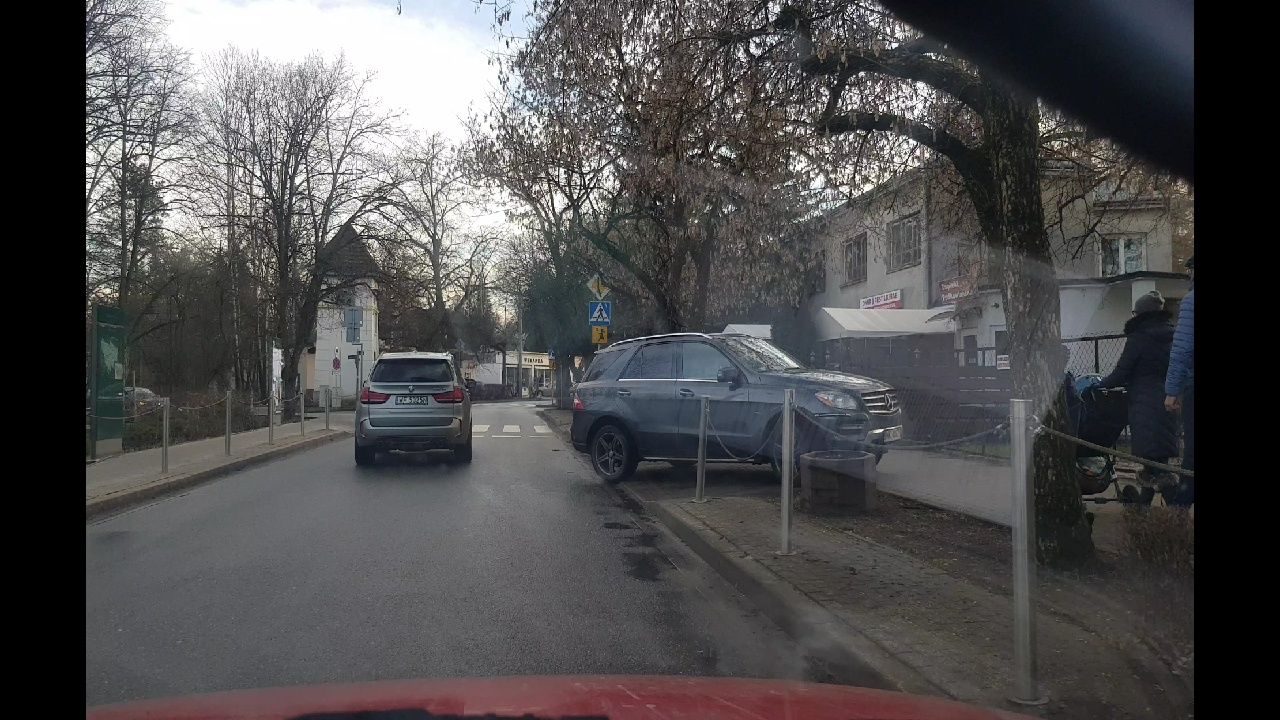D1: (584, 266, 616, 296)
D6: (587, 298, 614, 326)
